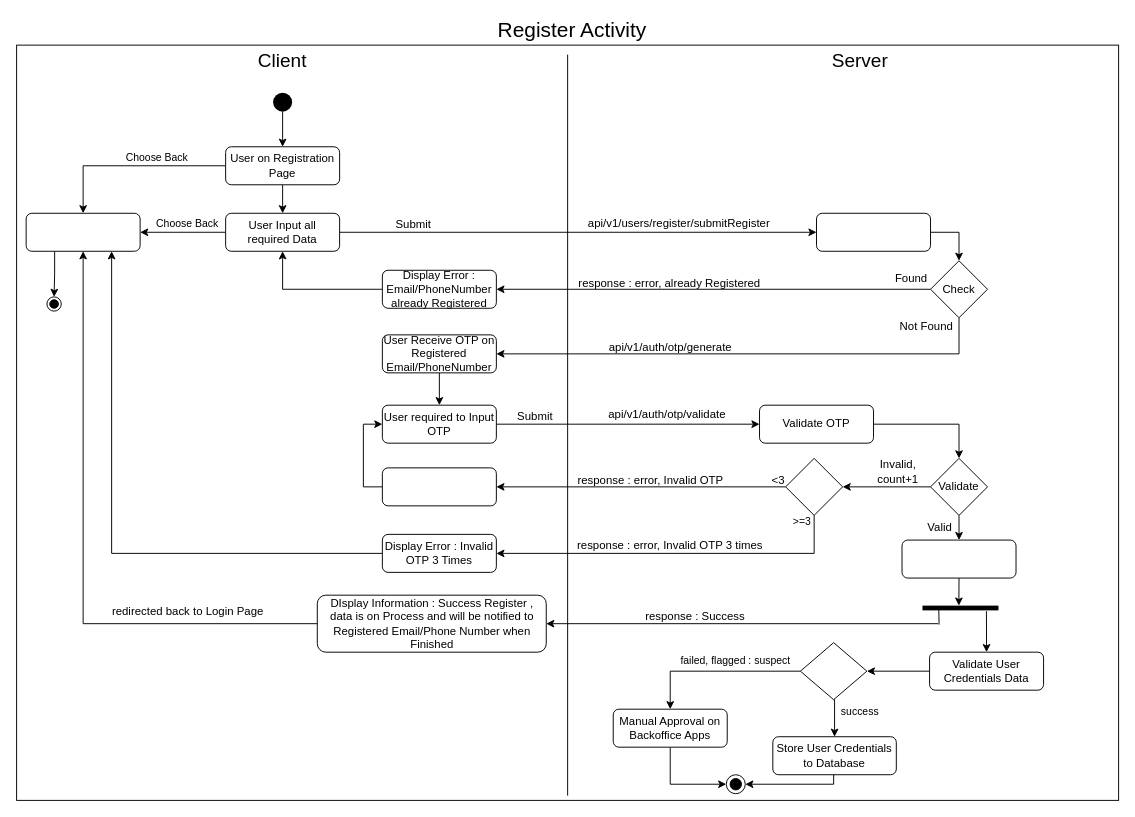
The diagram is 1135 pixels wide and 817 high, and some of its shapes have lost their labels. The shapes that lost their labels are listed below. From the top down, each one's centre as x and y in pixels, then its label:
At (82,231): "Back to Login Page".
At (873,231): "Check Existing Account".
At (438,486): "Display Error : Invalid OTP".
At (814,486): "Check Count".
At (958,558): "Success Register".
At (833,671): "Auto Approval".
